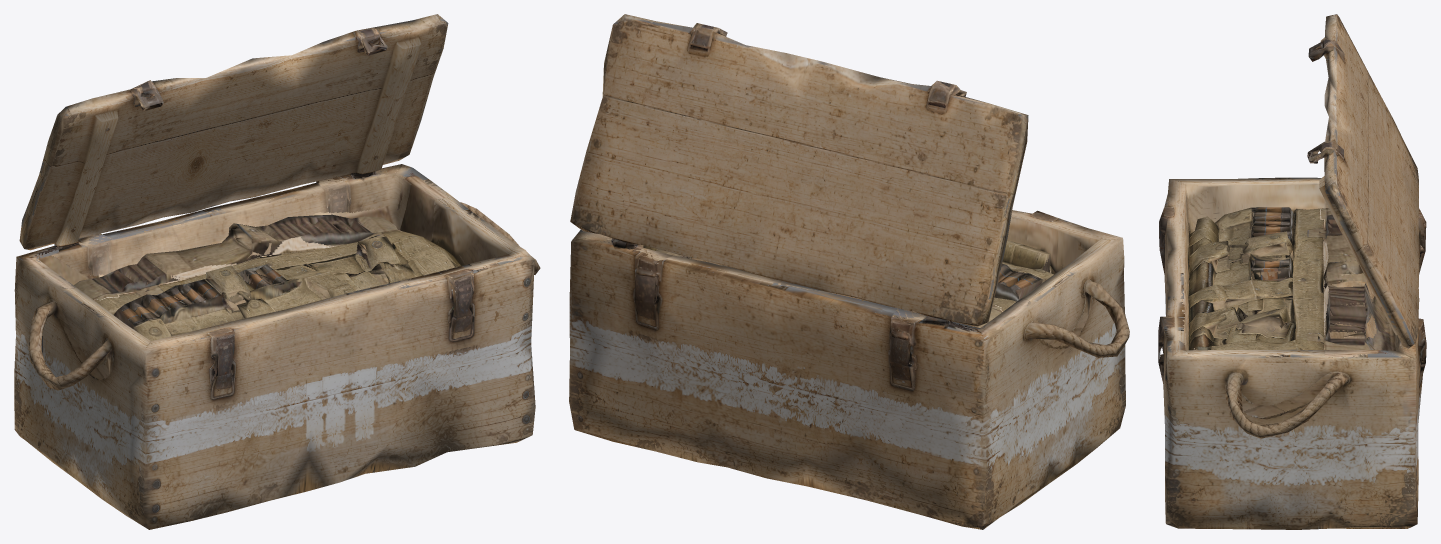
Rendered from ammo_crate_varco.glb.
3 views of the same model, side by side, from view 1: azimuth 30°, elevation 25°; view 2: azimuth 150°, elevation 25°; view 3: azimuth 270°, elevation 25° (orthographic). The views are drawn at different scales.
Parts seen in each view (by area): view 1: texture_mapping; view 2: texture_mapping; view 3: texture_mapping.
Part boxes in pixels (x1,y1,x2,y2): texture_mapping: [14, 14, 540, 529]; texture_mapping: [569, 14, 1129, 529]; texture_mapping: [1158, 14, 1426, 529].
Size of the model in its own units: 0.9989 by 0.7216 by 0.5016.
1 material, 1 textured.
